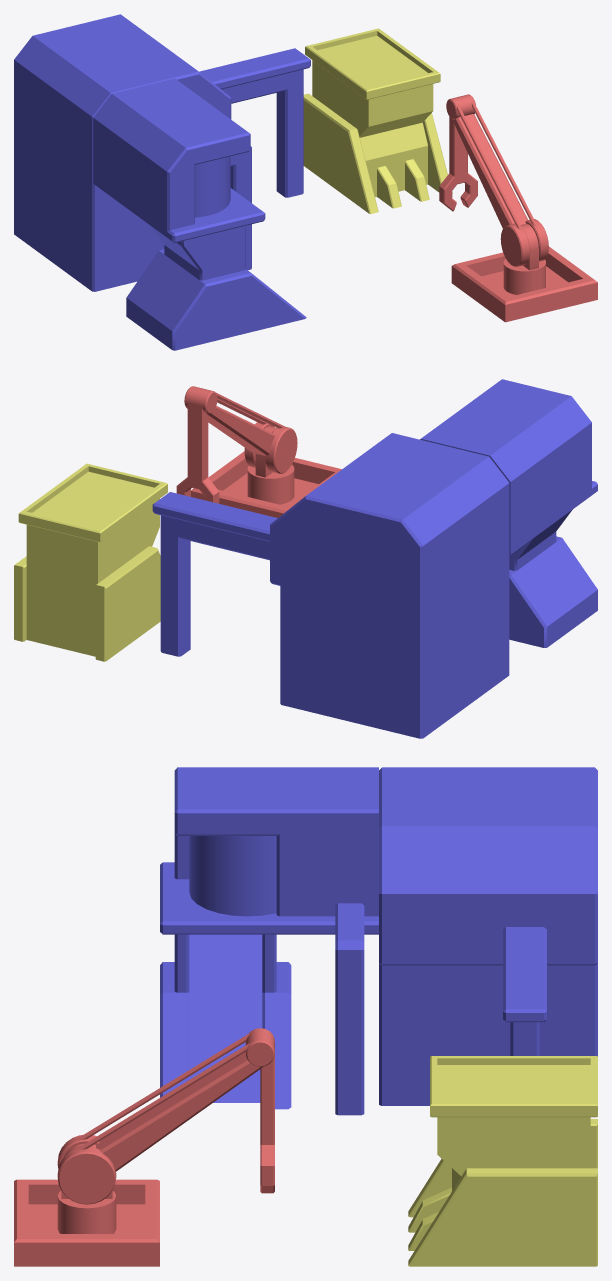
File: SM_Miner.fbx
3 renders of one model, top to bottom at view 1: azimuth 30°, elevation 25°; view 2: azimuth 150°, elevation 25°; view 3: azimuth 270°, elevation 25°, orthographic. The views are drawn at different scales.
Visible parts, largest first — view 1: SM_Harvester; view 2: SM_Harvester; view 3: SM_Harvester.
Boxes of the visible parts, box(x1,y1,x2,y2) form: SM_Harvester: box(14, 14, 597, 350); SM_Harvester: box(14, 379, 597, 738); SM_Harvester: box(14, 767, 597, 1266).
Bounding box in the file's own units: 400 × 200 × 400.
